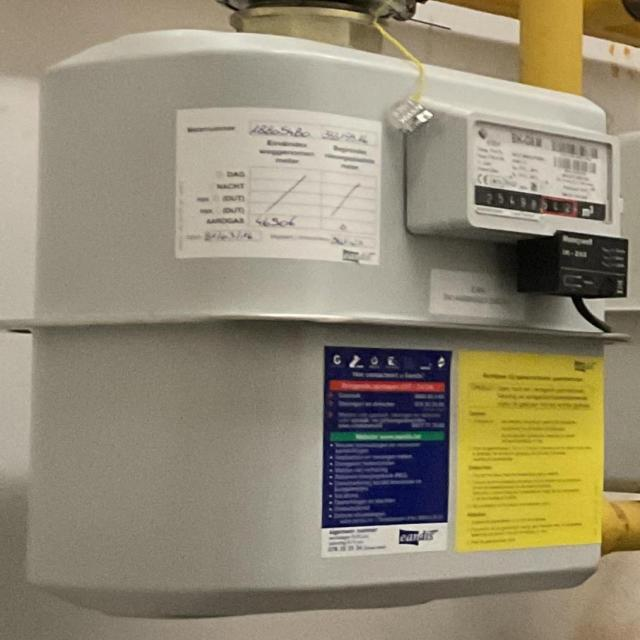gaz_meter: (473, 121, 619, 220)
indication: (476, 185, 582, 220)
